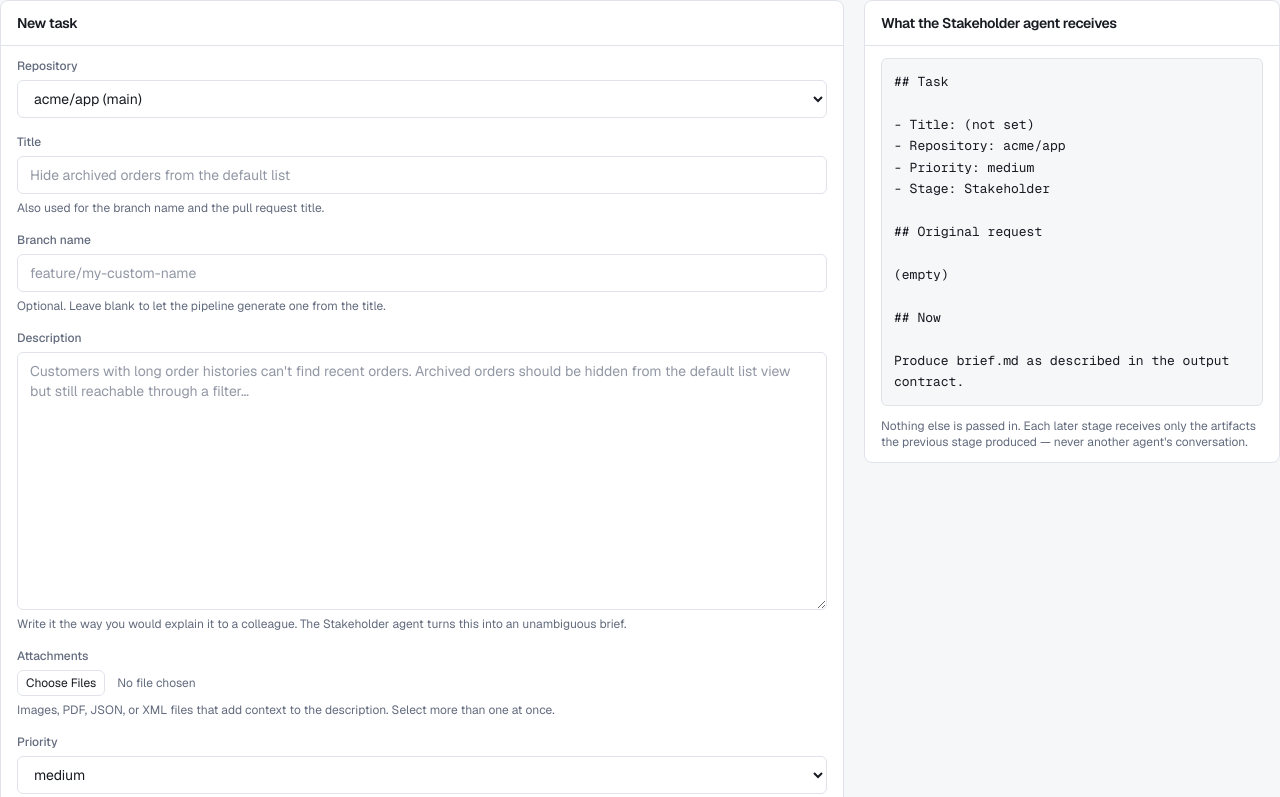
it: NewTaskForm branch name field › renders a returned details.branchName error under the field without a page reload
This screenshot has width=1280, height=797.
Select "acme/app (main)" in the dropdown labelled "Repository" at (422, 99), box left=17, top=80, right=827, bottom=118
Type "A perfectly reasonable title" into the field labelled "Title" at (422, 175), box left=17, top=156, right=827, bottom=194
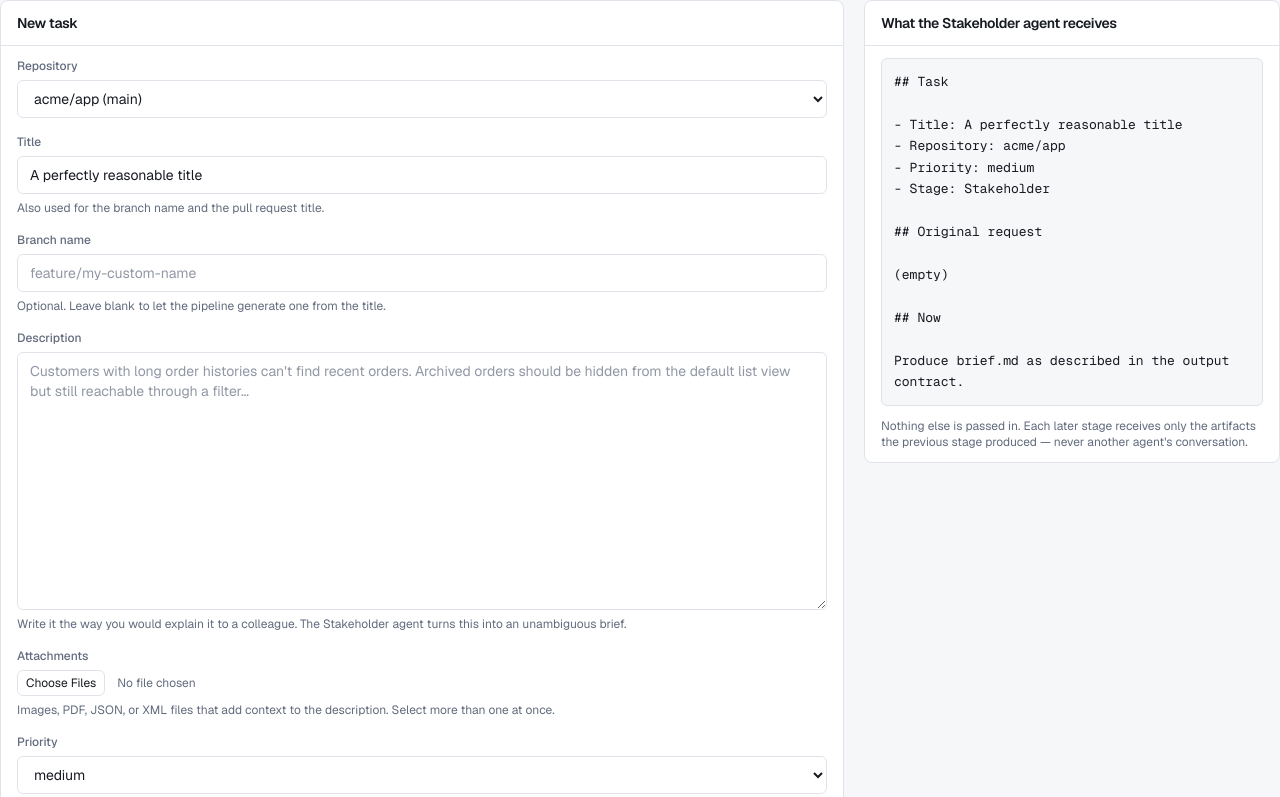
Replace the text in the text box labelled "Description" with "A description long enough to pass the twenty character minimum." at (422, 481), box left=17, top=352, right=827, bottom=610
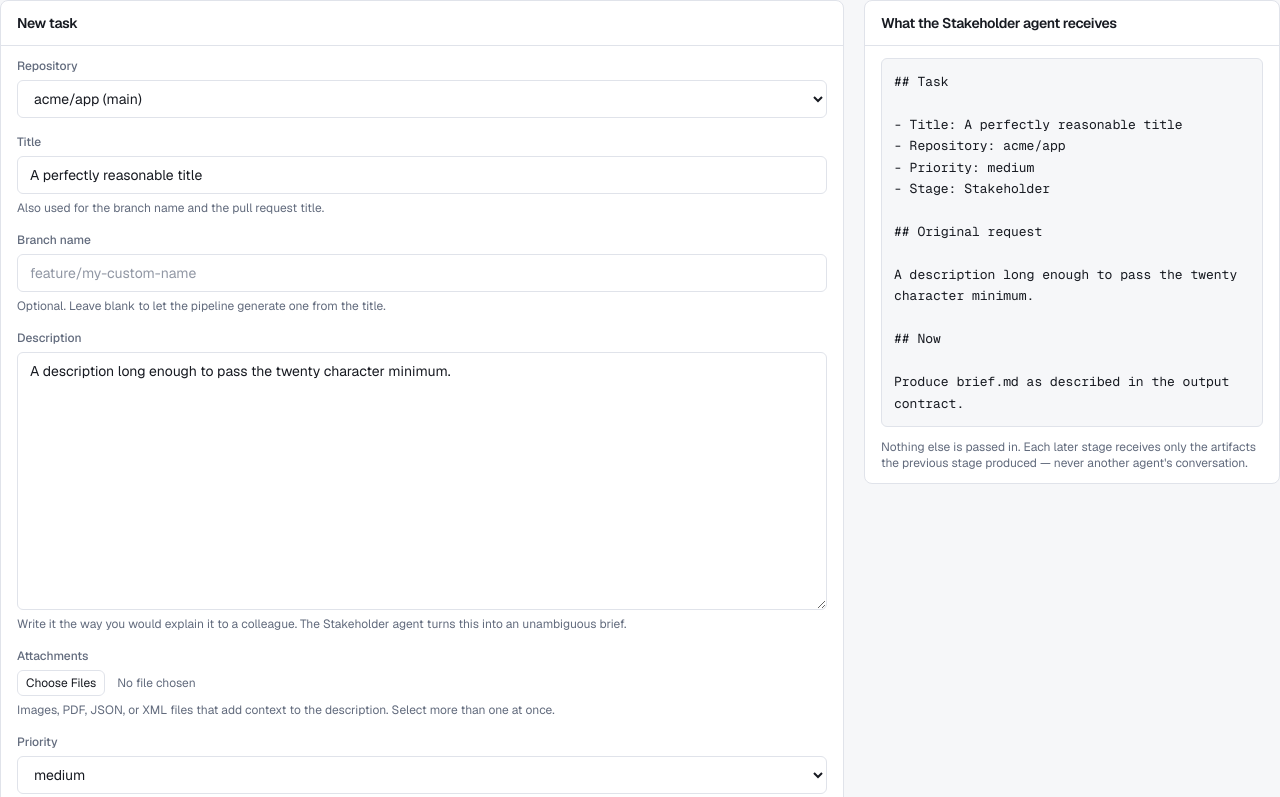
Type "bad name" into the field labelled "Branch name" at (422, 273), box left=17, top=254, right=827, bottom=292
(page scrolled)
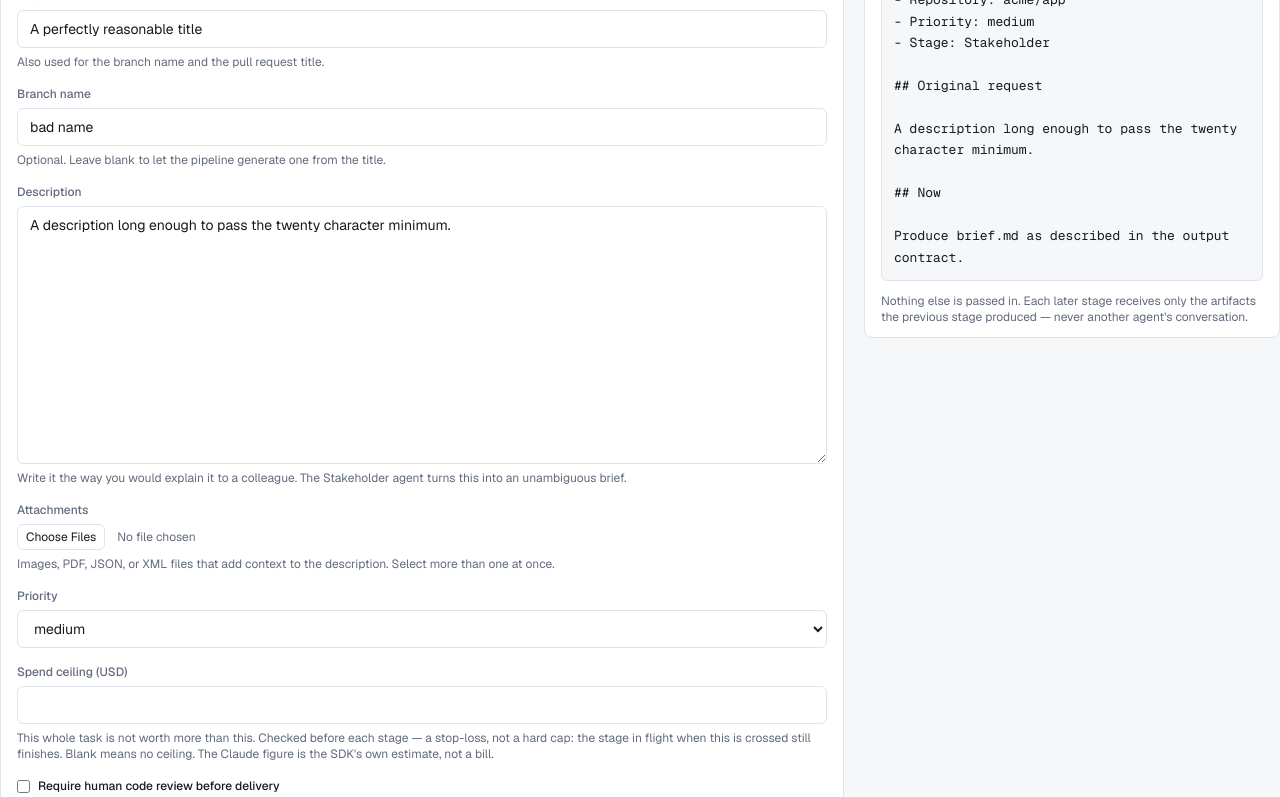
Submit the form
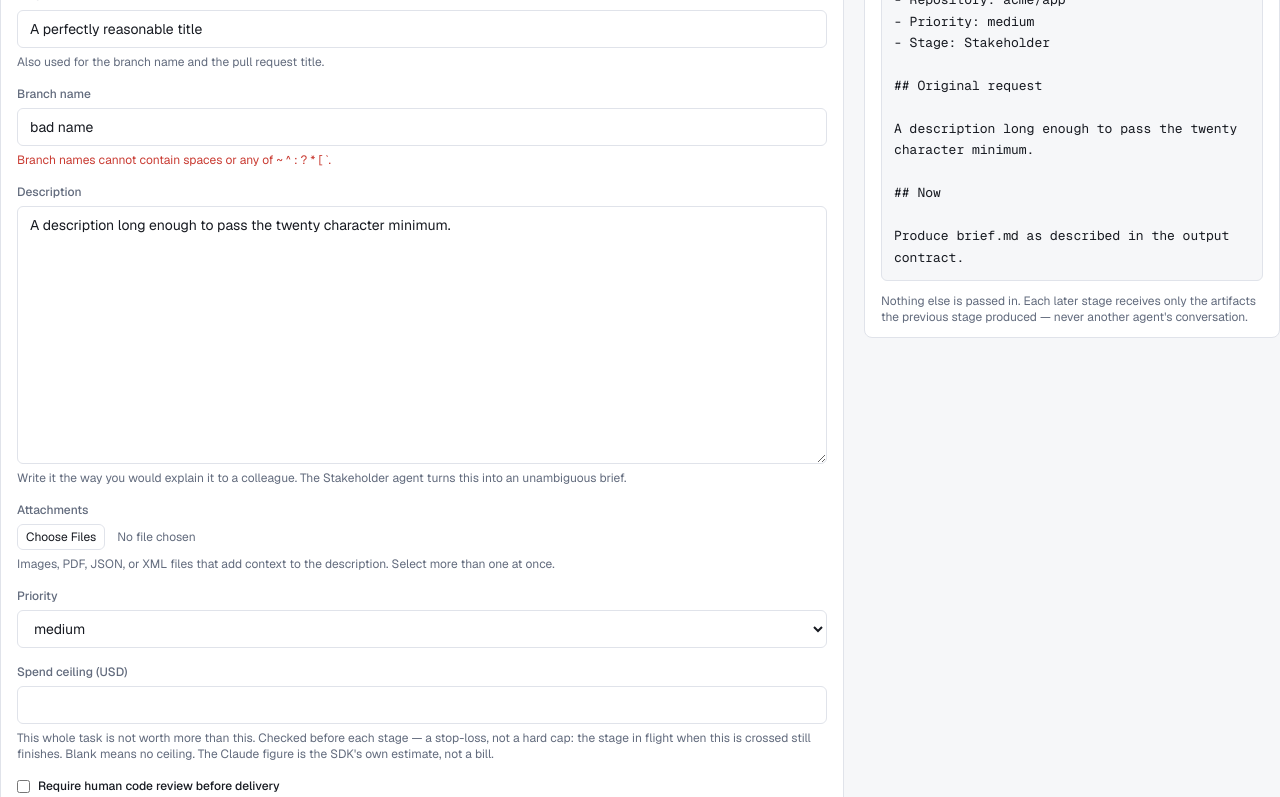
Expected: the text "Branch names cannot contain spaces or any of ~ ^ : ? * [ `." is shown, left=17, top=152, right=331, bottom=168
